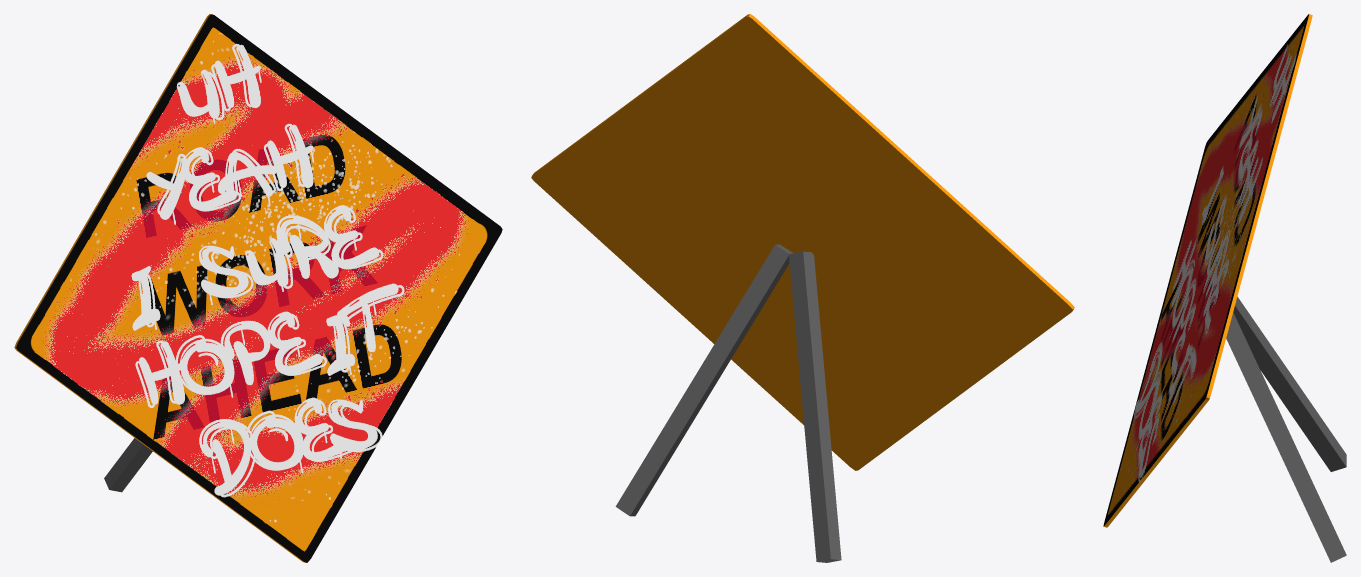
Rendered from RoadSign.fbx.
3 views of the same model, side by side, from view 1: azimuth 30°, elevation 25°; view 2: azimuth 150°, elevation 25°; view 3: azimuth 270°, elevation 25° (orthographic). The views are drawn at different scales.
Visible parts, largest first — view 1: pCube1, pCube3; view 2: pCube1, pCube3, pCube2; view 3: pCube1, pCube2, pCube3.
Part boxes in pixels (x1,y1,x2,y2): pCube1: (14, 14, 502, 562); pCube3: (104, 438, 152, 492); pCube1: (531, 14, 1074, 470); pCube3: (789, 251, 841, 562); pCube2: (615, 244, 793, 516); pCube1: (1103, 14, 1312, 527); pCube2: (1226, 312, 1346, 562); pCube3: (1233, 296, 1346, 471).
Size of the model in its own units: 107 by 101 by 43.13.
